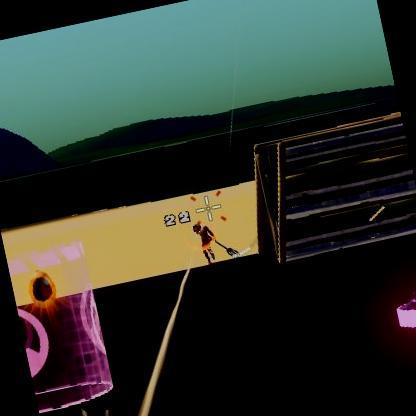person: (192, 218, 219, 262)
